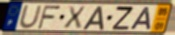A: (128, 7, 152, 31), (82, 6, 105, 30)
F: (36, 4, 62, 29)
U: (18, 4, 43, 29)
X: (62, 6, 87, 30)
Z: (111, 5, 135, 31)
